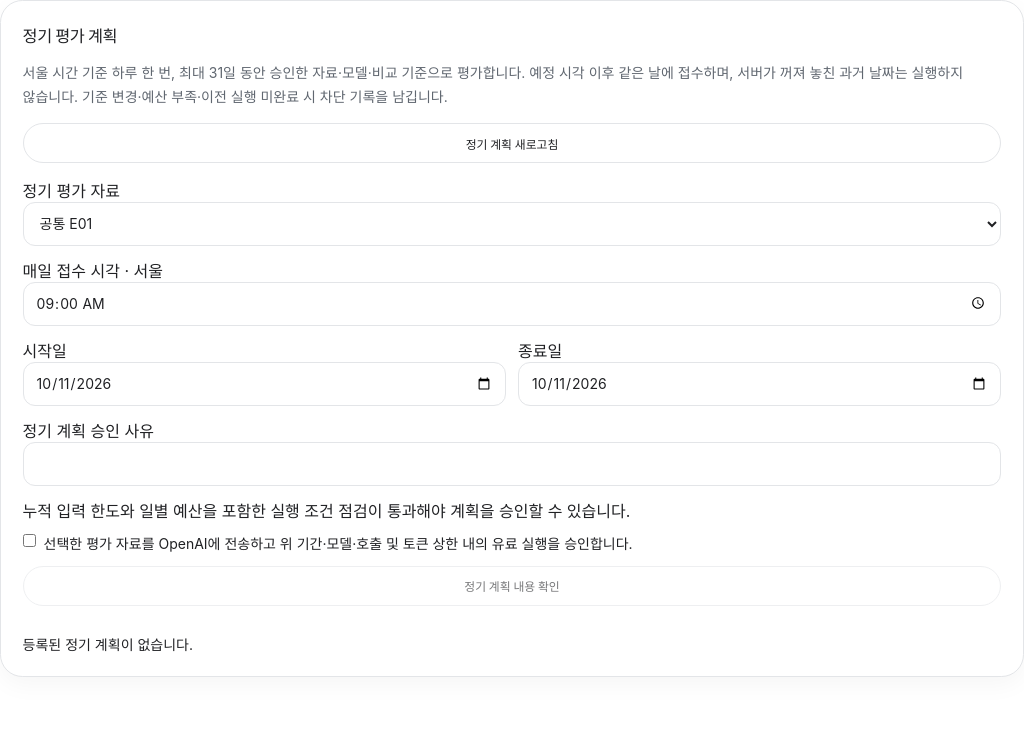
Test case: 일별 정기 평가 계획 › 기간 전체 상한을 확인한 뒤 관리자·CSRF·고정 기준으로만 저장한다
Check: the field labelled "정기 계획 승인 사유" is shown, box [23,442,1001,486]
Type "2026-10-03" into the date field labelled "시작일" at (264, 384), box [23,362,506,406]
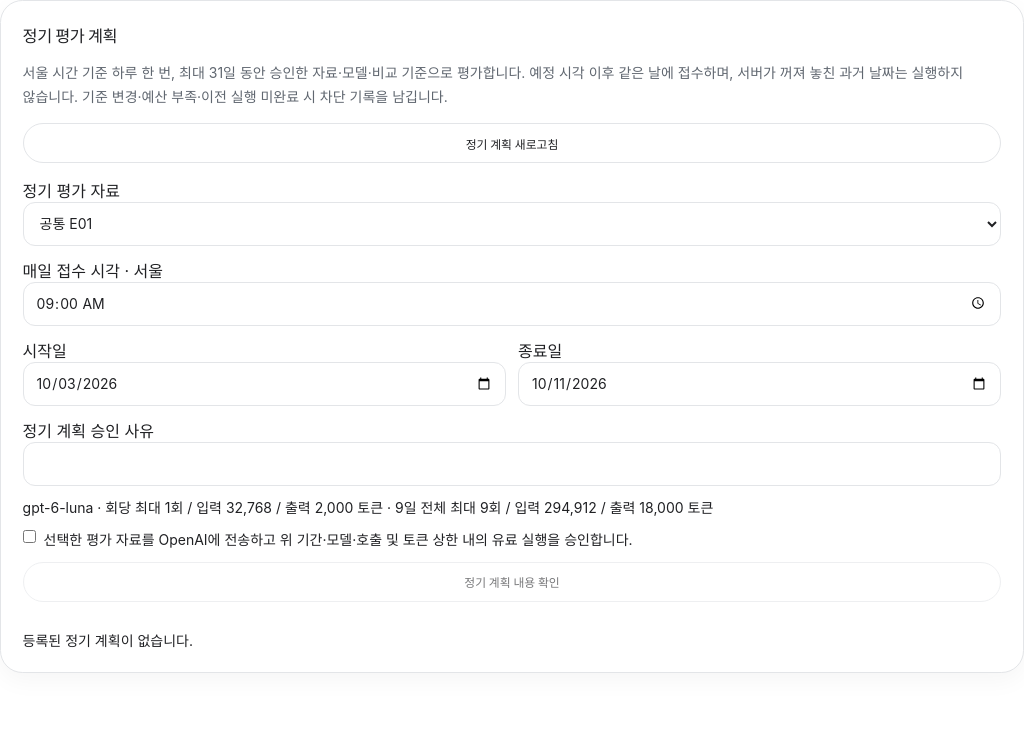
Type "2026-10-05" into the date field labelled "종료일" at (760, 384), box [518,362,1001,406]
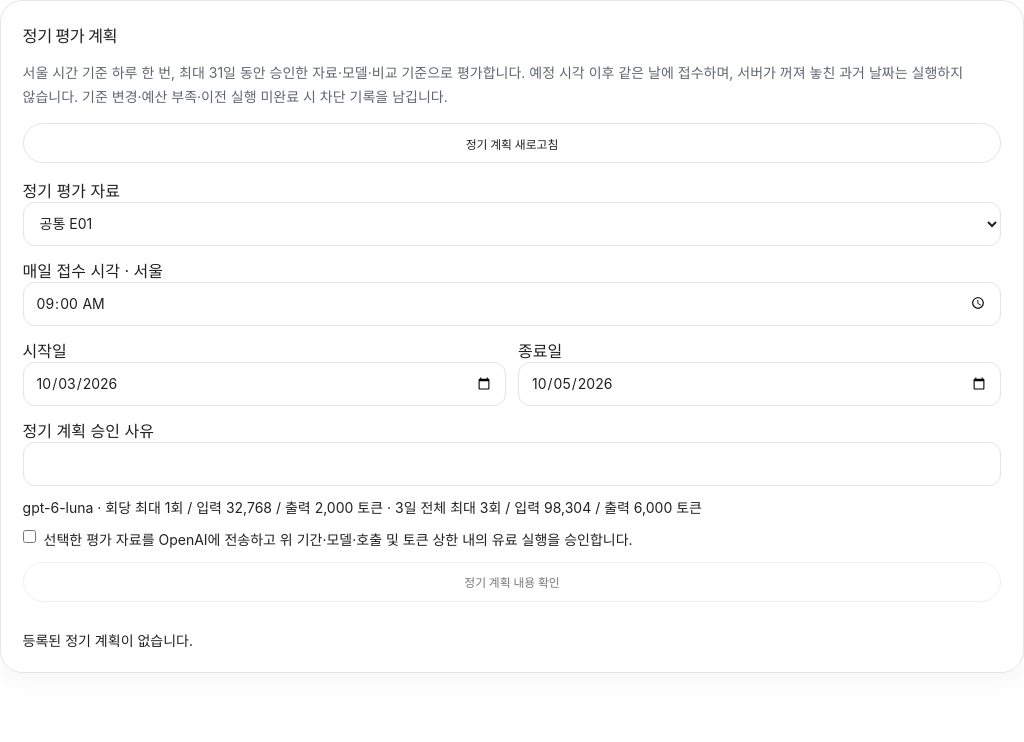
Type "3일 승인" into the field labelled "정기 계획 승인 사유" at (512, 464), box [23,442,1001,486]
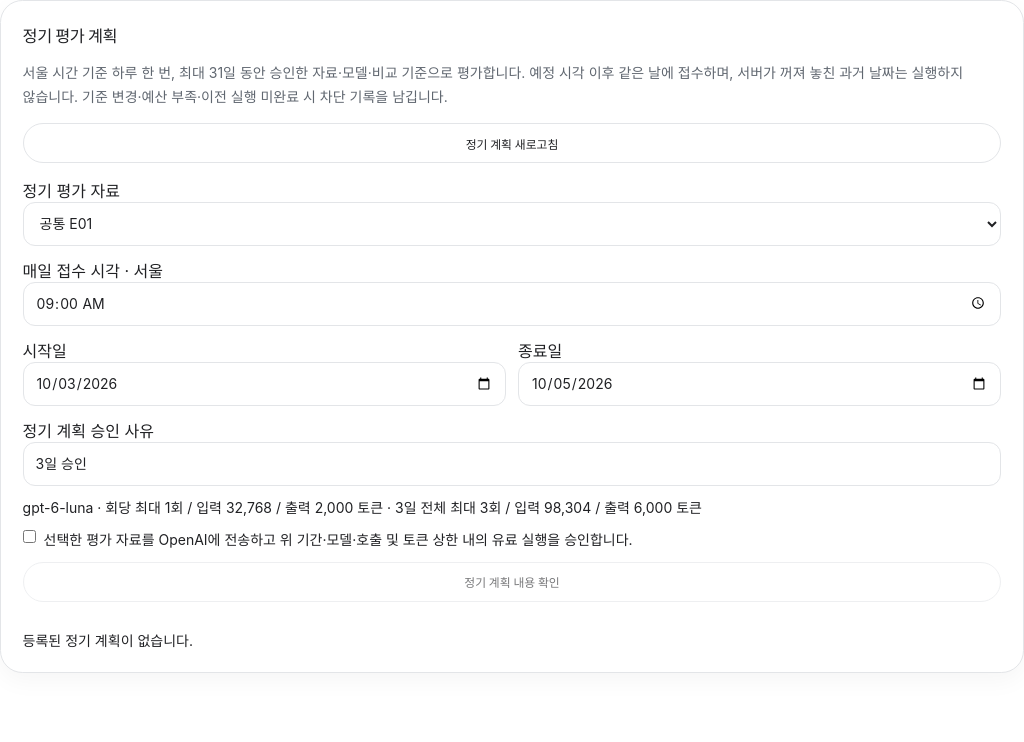
Click the checkbox at (29, 536), box [23,530,36,543]
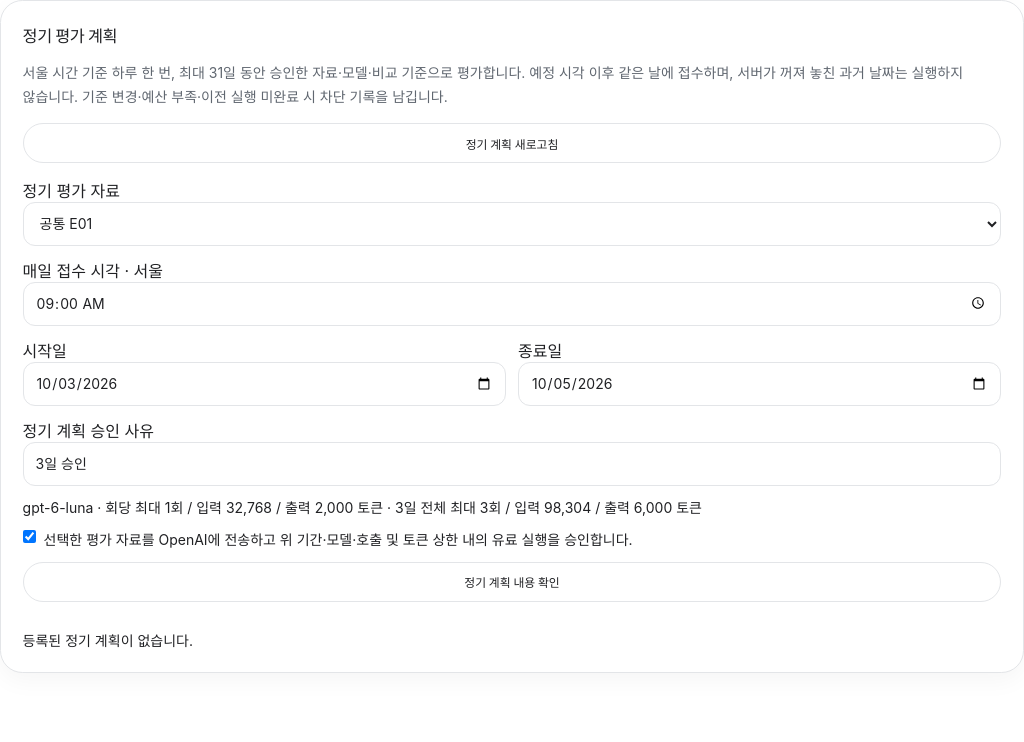
Check: the button "정기 계획 내용 확인" is enabled
Click the button "정기 계획 내용 확인" at (512, 582), box [23,562,1001,602]
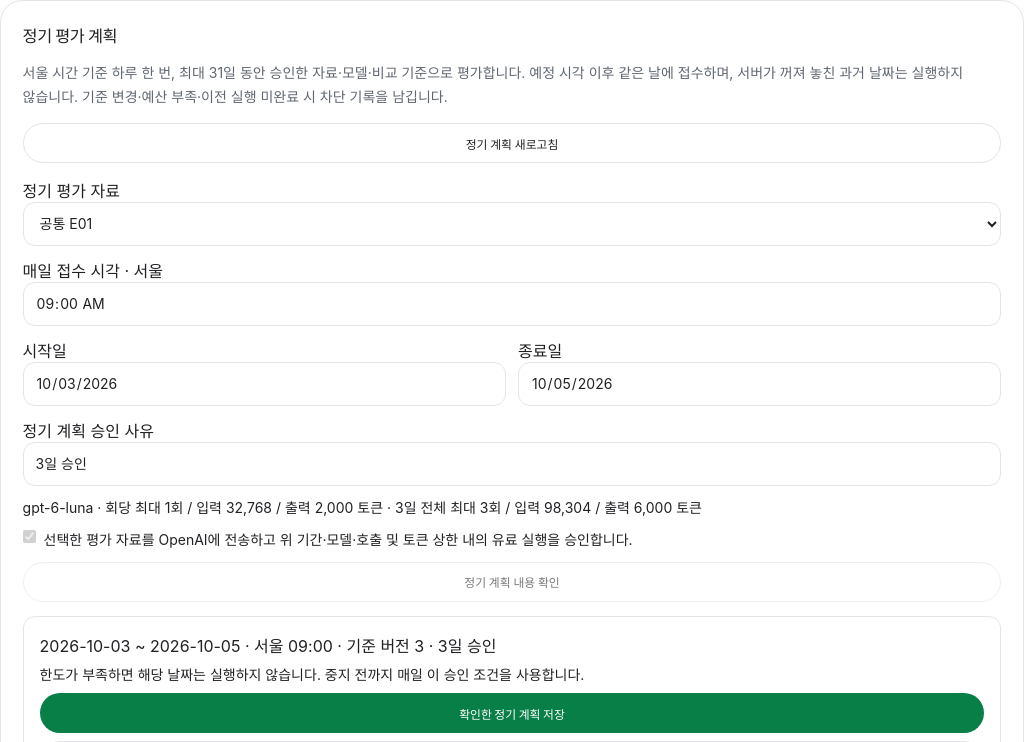
Check: the text "3일 전체 최대 3회" is shown, box [23,499,702,516]
Click the button "확인한 정기 계획 저장" at (512, 713), box [40,693,984,733]
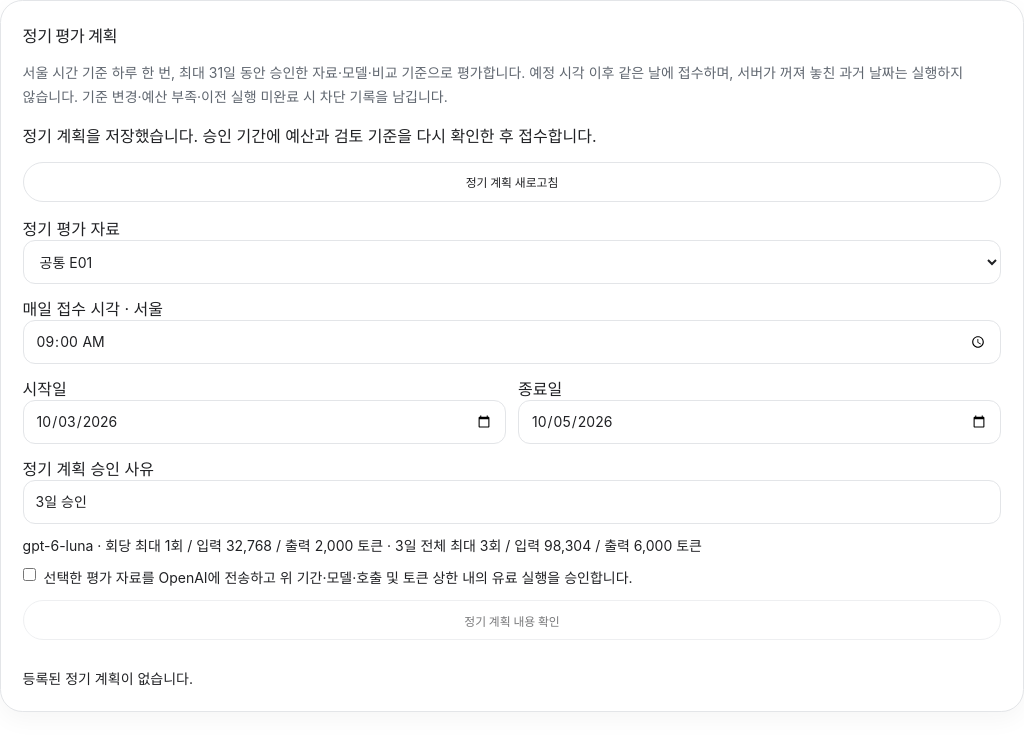
Check: the text "정기 계획을 저장했습니다. 승인 기간에 예산과 검토 기준을 다시 확인한 후 접수합니다." is shown, box [23,126,596,146]
